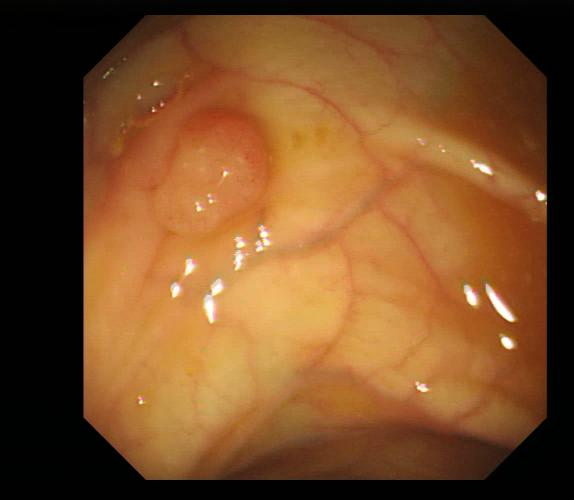polyp: (147, 108, 271, 239)
